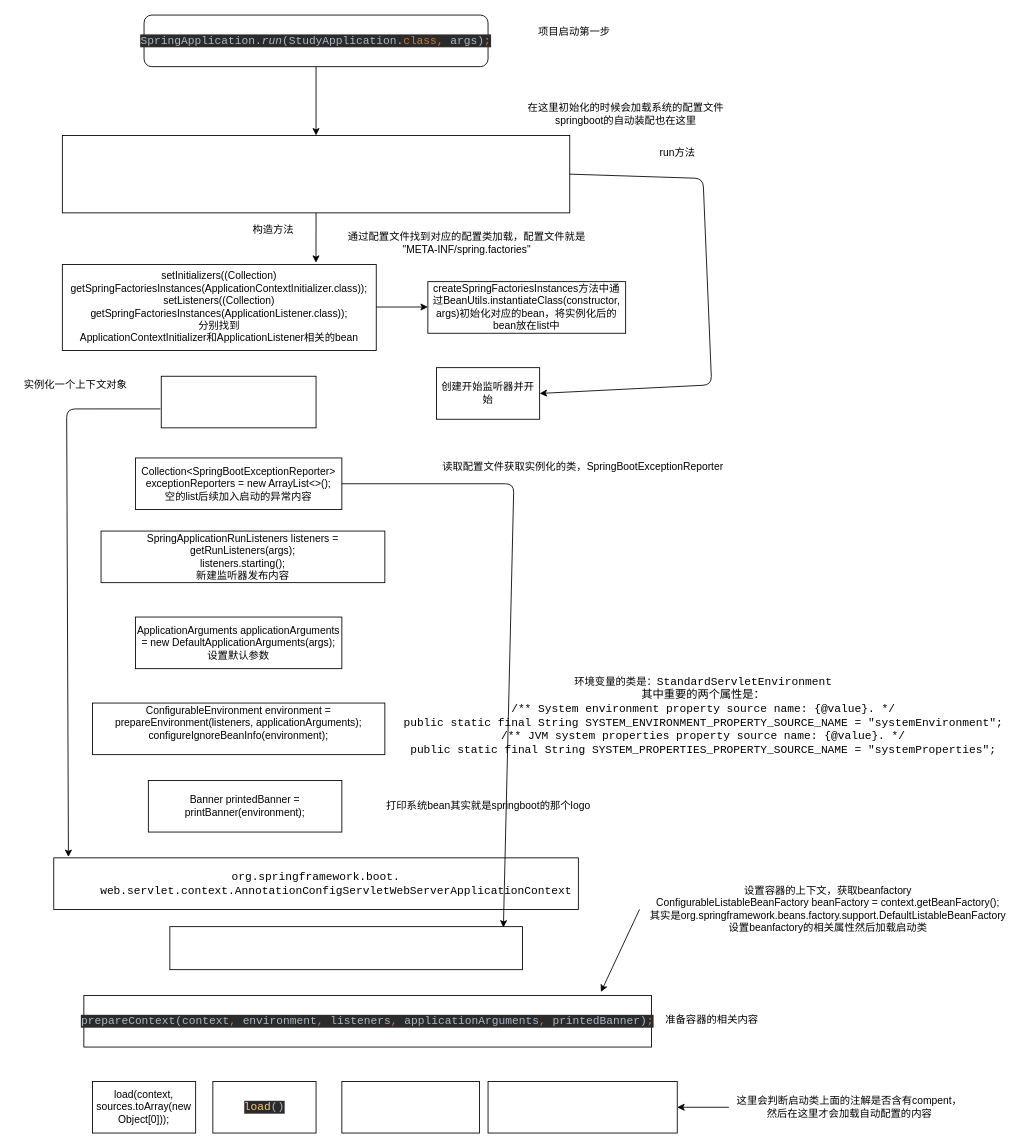
The diagram is 1027 pixels wide and 1148 high, and some of its shapes have lost their labels. The centre of each missing label's shape, as x and y in pixels:
"ConfigurableApplicationContext 空对象" belongs at point 238,401.
"FailureAnalyzers" belongs at point 345,948.
"load (Class<?> source)" belongs at point 582,1107.
"load (Object source)" belongs at point 410,1107.
"new SpringApplication(primarySources).run(args)，分为构造方法和run方法" belongs at point 315,174.
